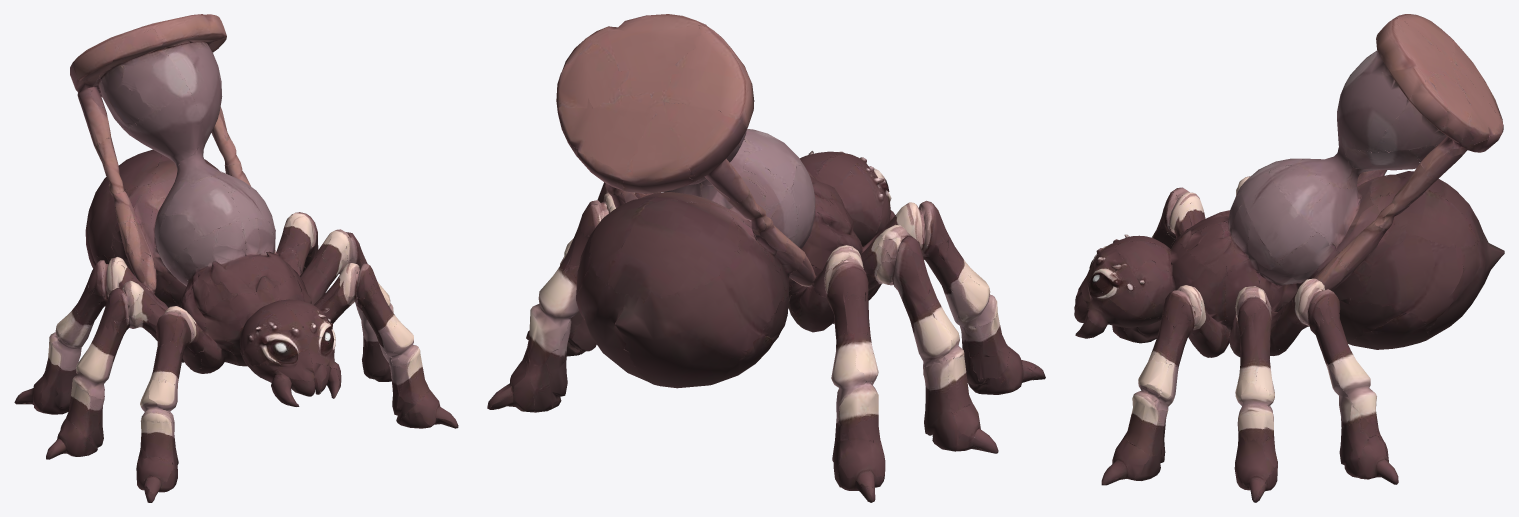
3 views of the same model, side by side, from view 1: azimuth 30°, elevation 25°; view 2: azimuth 150°, elevation 25°; view 3: azimuth 270°, elevation 25° (orthographic). The views are drawn at different scales.
Parts seen in each view (by area): view 1: Mesh_0; view 2: Mesh_0; view 3: Mesh_0.
Part boxes in pixels (x1,y1,x2,y2): Mesh_0: (14, 14, 458, 502); Mesh_0: (487, 14, 1045, 502); Mesh_0: (1074, 14, 1504, 502).
Bounding box in the file's own units: 1.9 × 1.68 × 1.74.
Materials: 1 (1 with a texture image).
